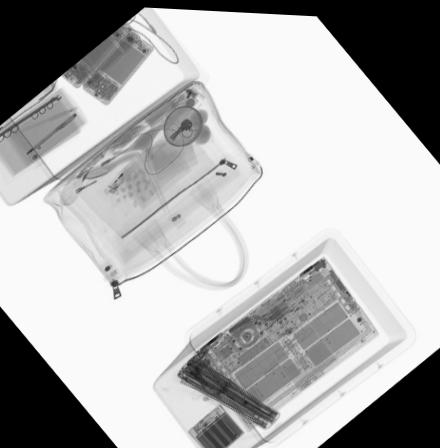Lighter: (104, 155, 141, 194)
